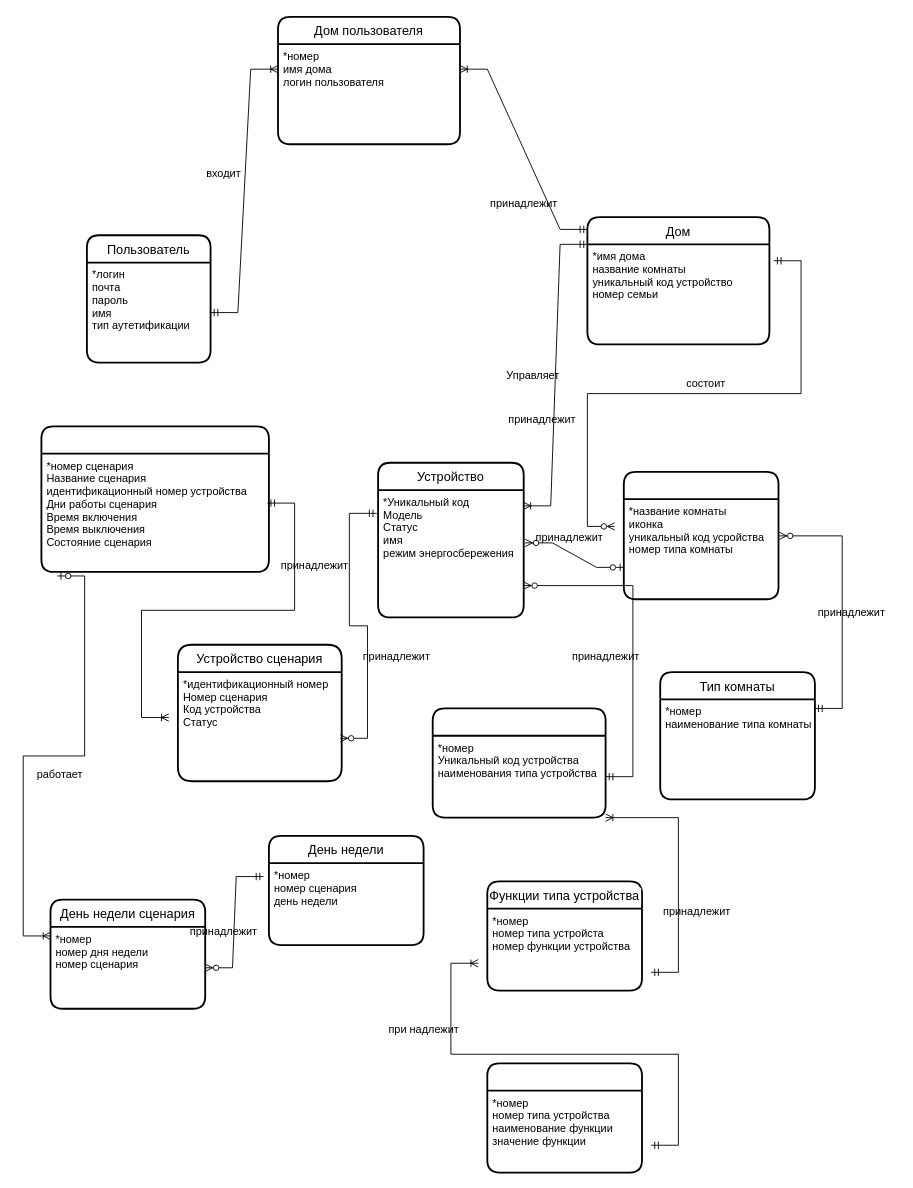
The diagram is 913 pixels wide and 1188 high, and some of its shapes have lost their labels. The box of each missing label's shape, as (x1, y1, x2, y2) in pixels:
Комната: (622, 470, 779, 600)
Сценарий: (40, 425, 269, 572)
Тип устройства: (431, 707, 606, 818)
функция устройства: (486, 1062, 642, 1173)
